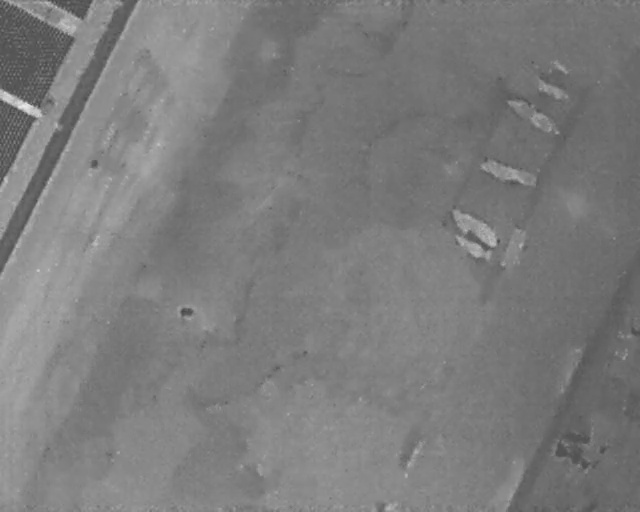Bicycle: (498, 91, 565, 141), (444, 202, 507, 250), (474, 155, 542, 192), (514, 67, 576, 107), (448, 227, 497, 267)
